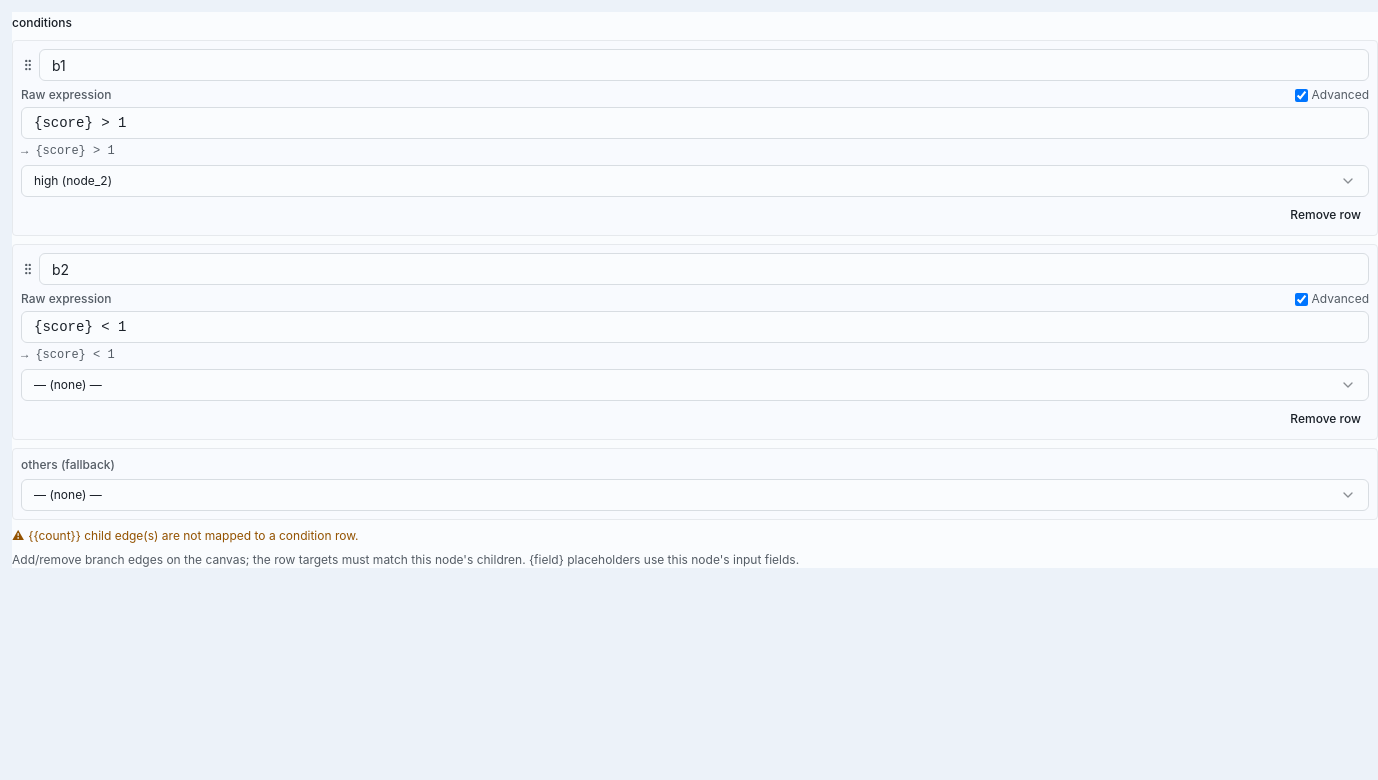
Scenario: ConditionNodeEditor › next_node_id dropdown excludes children claimed by other rows
What coordinates should you click on to do the following:
click the dropdown with test id "cfg-condition-target-1"
I would click on:
 (68, 384)
Its box is [21,369,1369,401].
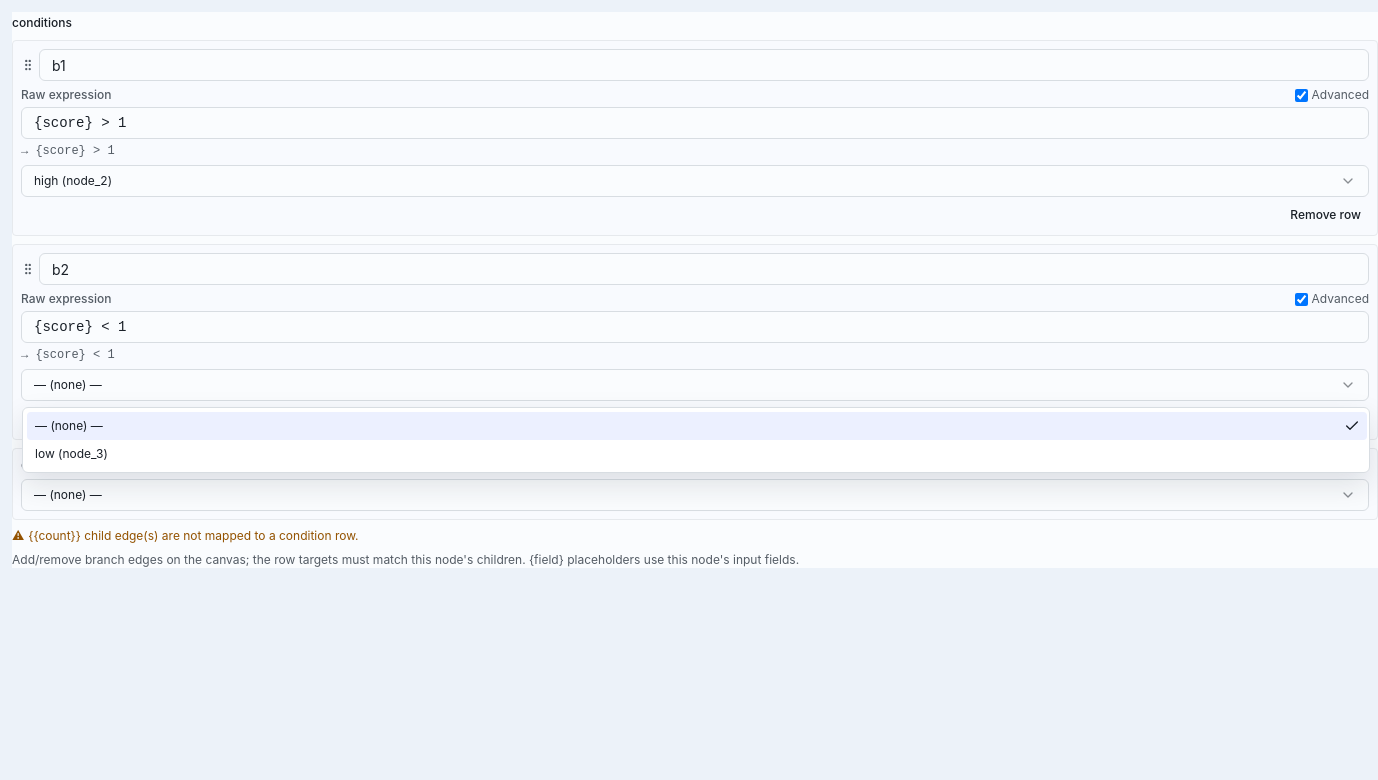
Expected: the option does not show "high (node_2)"
Expected: the text "low (node_3)" is shown, [35,446,108,461]
